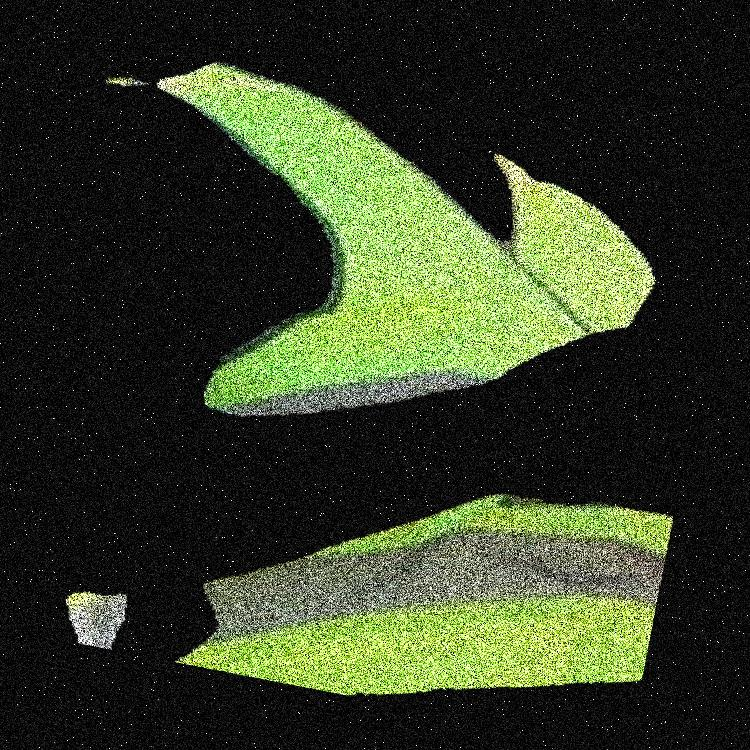Colete: (326, 0, 525, 749)
